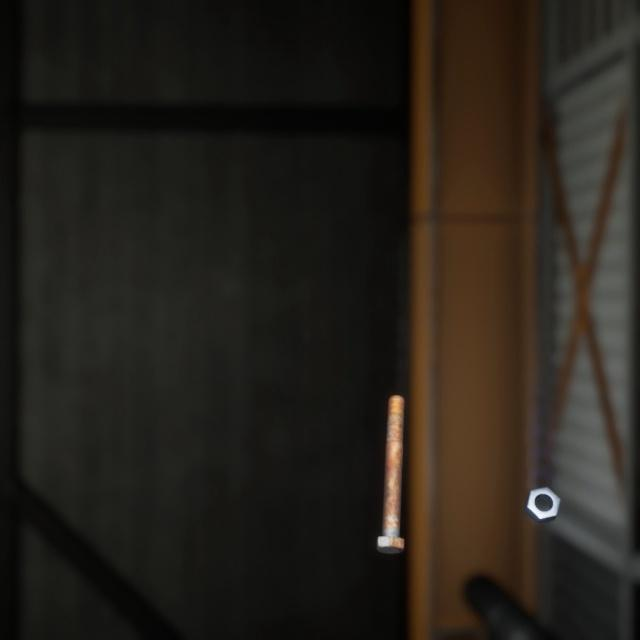bolt: (371, 371, 409, 537)
nut: (519, 461, 564, 506)
